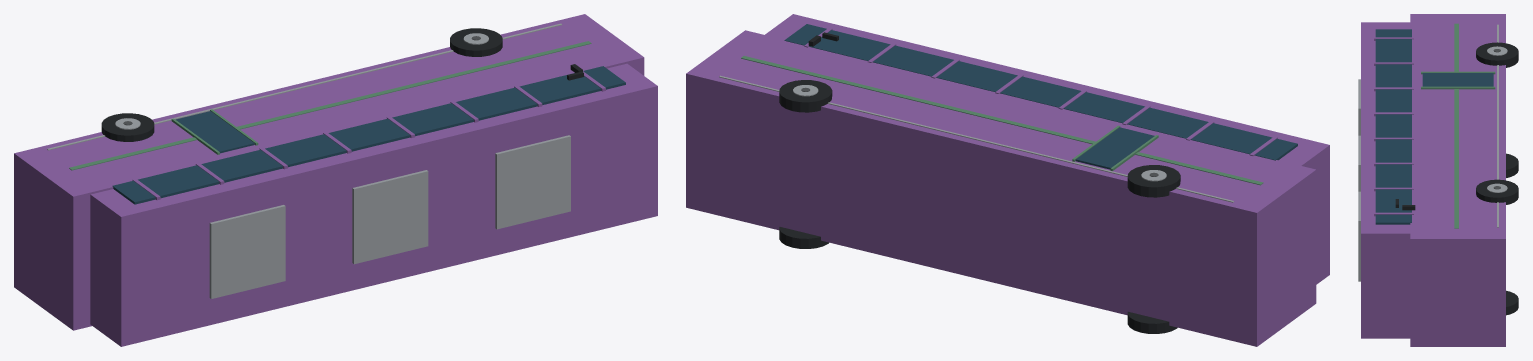
Rendered from RM_Bus_48.glb.
3 renders of one model, left to right at view 1: azimuth 30°, elevation 25°; view 2: azimuth 150°, elevation 25°; view 3: azimuth 270°, elevation 25°, orthographic. The views are drawn at different scales.
Visible parts, largest first — view 1: part_001, part_000, part_002, part_037, part_038, part_039, part_013, part_040, part_014, part_024, part_030; view 2: part_000, part_002, part_001, part_013, part_040, part_024, part_030, part_014, part_021, part_027; view 3: part_000, part_001, part_002, part_040, part_013, part_024, part_030, part_014, part_042, part_039, part_027, part_021 (+5 smaller).
Part boxes in pixels (x1,y1,x2,y2): part_001: [90, 63, 657, 346]; part_000: [14, 14, 644, 330]; part_002: [112, 66, 625, 204]; part_037: [209, 205, 285, 298]; part_038: [352, 170, 428, 264]; part_039: [495, 135, 570, 229]; part_013: [69, 41, 591, 170]; part_040: [176, 111, 254, 153]; part_014: [47, 23, 562, 150]; part_024: [101, 113, 154, 141]; part_030: [450, 28, 502, 56]; part_000: [686, 30, 1316, 346]; part_002: [784, 24, 1297, 160]; part_001: [765, 14, 1329, 284]; part_013: [741, 56, 1263, 185]; part_040: [1075, 127, 1154, 169]; part_024: [1127, 165, 1180, 197]; part_030: [779, 80, 832, 112]; part_014: [719, 75, 1234, 202]; part_021: [1127, 311, 1177, 333]; part_027: [779, 227, 828, 248]; part_000: [1410, 14, 1505, 346]; part_001: [1361, 22, 1410, 338]; part_002: [1375, 29, 1411, 224]; part_040: [1422, 73, 1493, 86]; part_013: [1454, 23, 1458, 228]; part_024: [1476, 42, 1518, 67]; part_030: [1476, 179, 1518, 204]; part_014: [1497, 24, 1498, 227]; part_042: [1421, 86, 1495, 89]; part_039: [1358, 191, 1360, 281]; part_027: [1506, 290, 1518, 315]; part_021: [1506, 153, 1518, 177].
Bounding box in the file's own units: 11.64 × 2.93 × 3.51.
